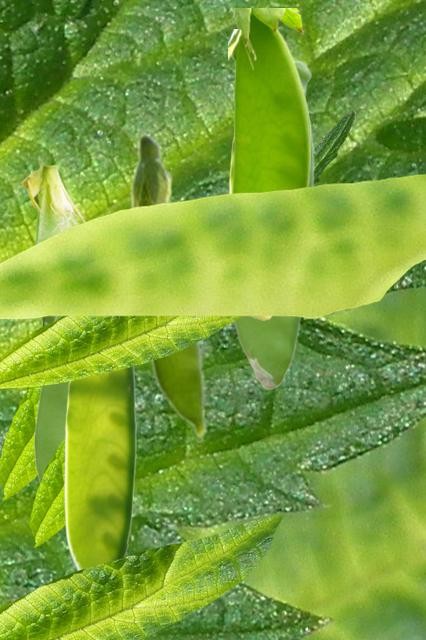pea: (232, 59, 314, 389), (228, 8, 309, 319), (129, 131, 208, 442), (64, 367, 136, 570), (21, 156, 86, 327), (33, 317, 67, 482), (228, 29, 239, 192)
